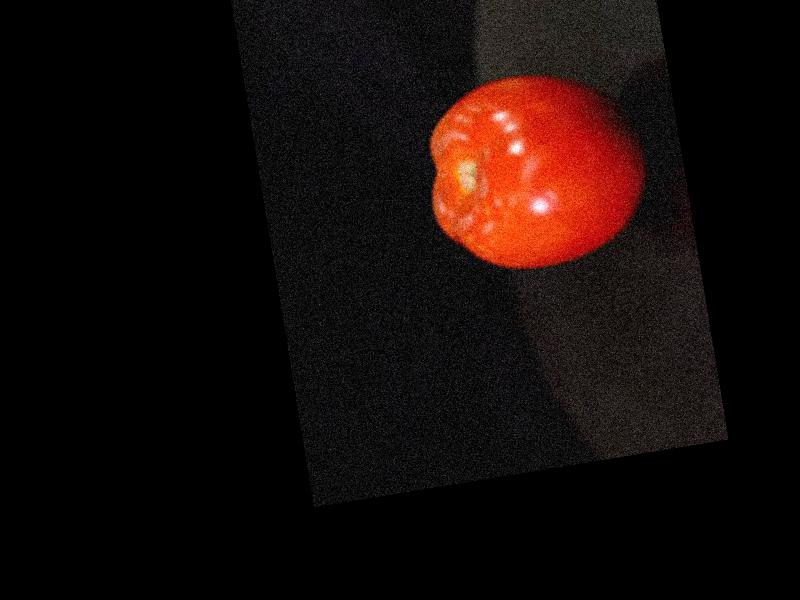Tomato: (413, 59, 654, 285)
